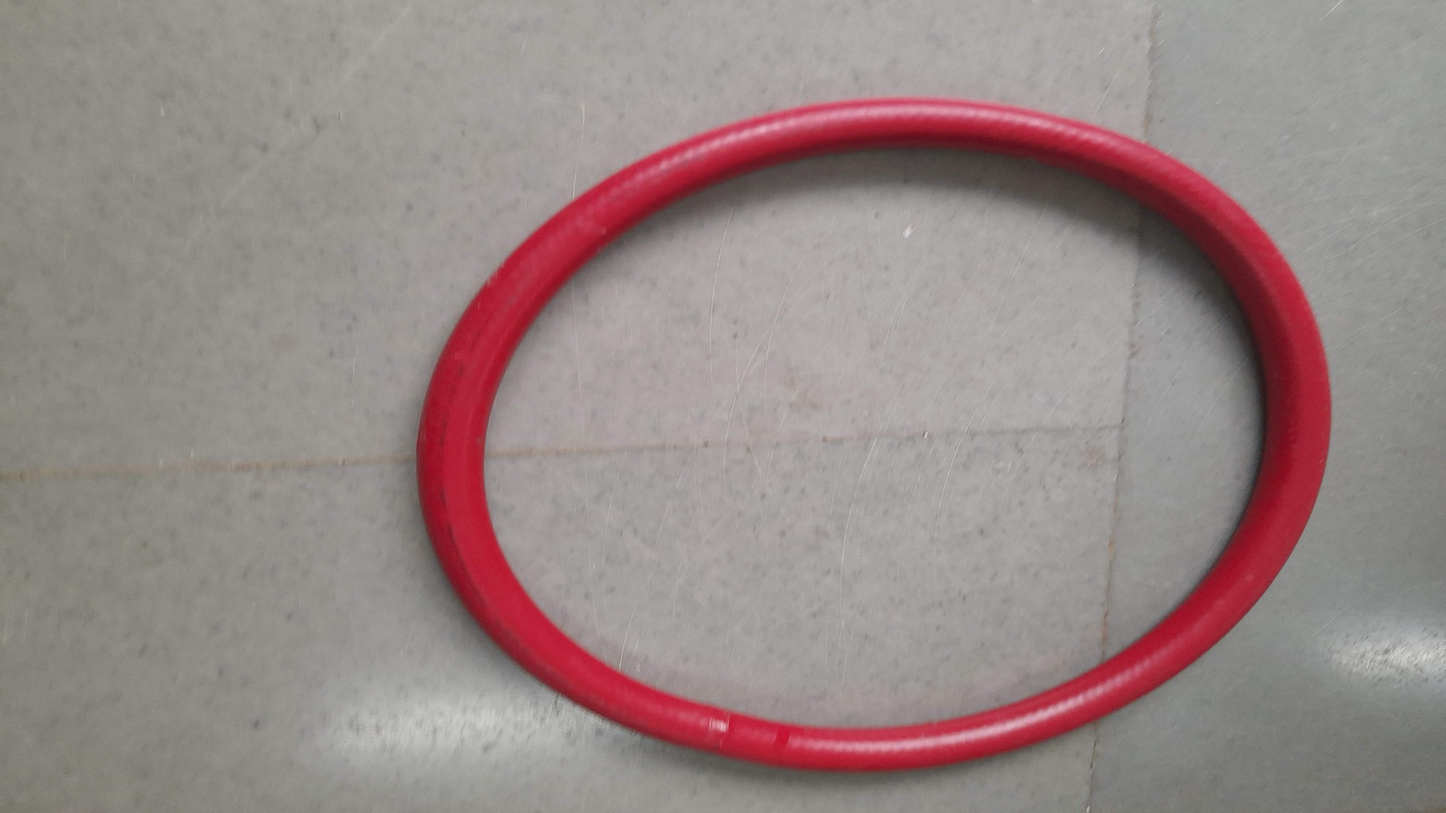Red ring: (423, 100, 1332, 773)
